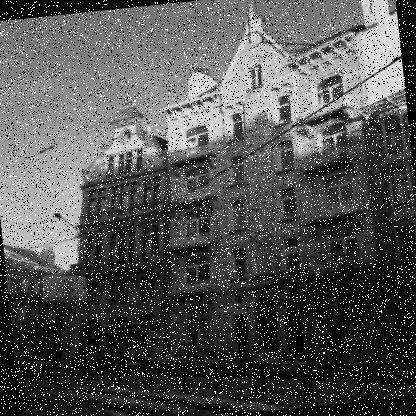Car: (254, 344, 334, 382), (64, 344, 147, 379), (152, 342, 240, 374), (14, 350, 54, 373)
